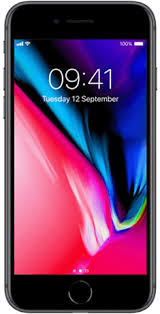iphone8: (1, 1, 160, 314)
